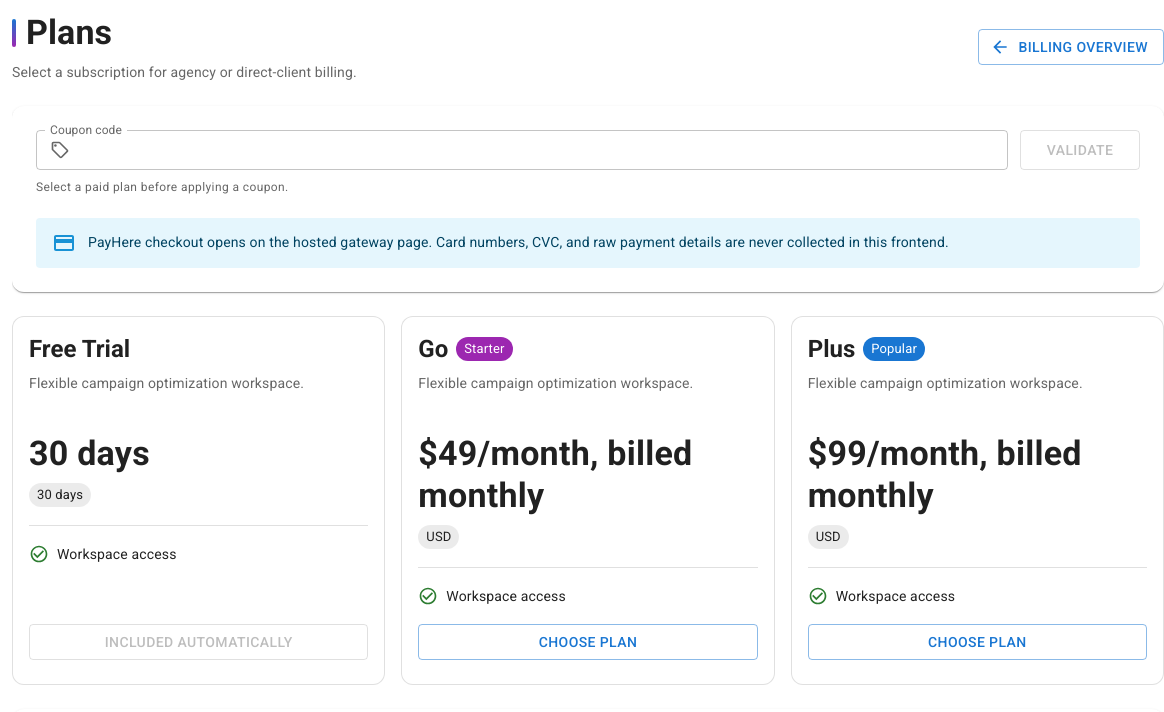
Test: PlanSelectionPage › displays the backend detail when coupon validation fails
Click the 1st button "Choose Plan": x=588, y=642 [418,624,758,660]
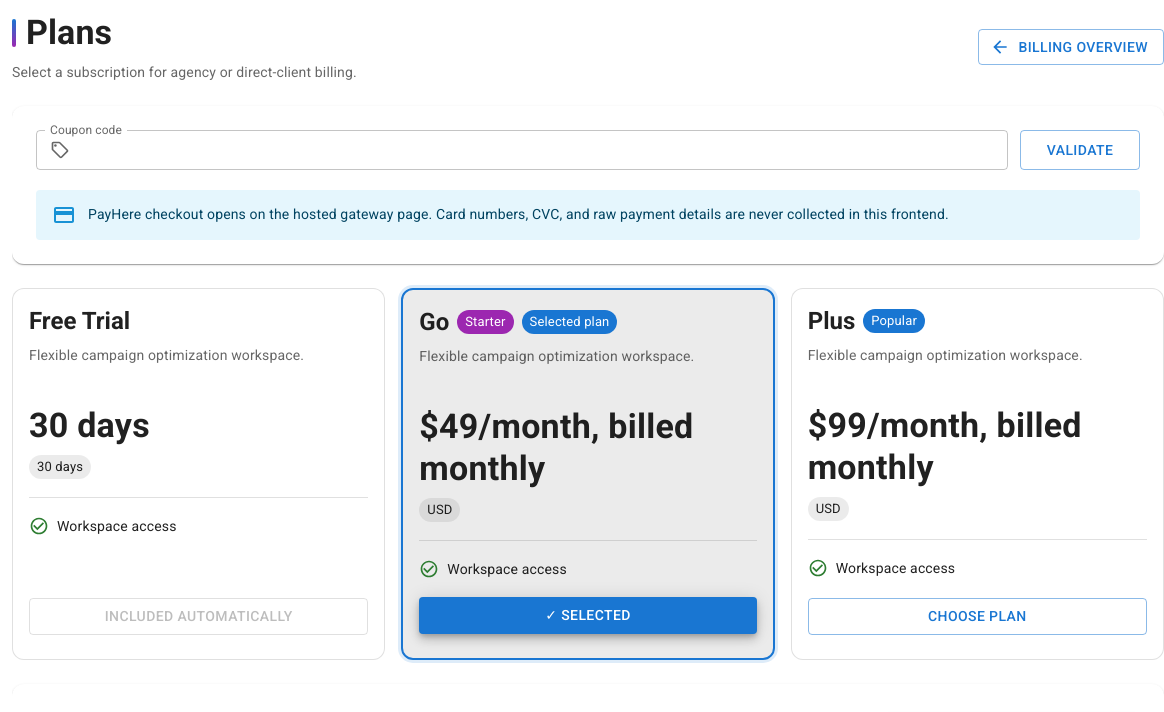
In the field labelled "Coupon code": x=543, y=150 [78,130,1008,170], type "OLDGO"
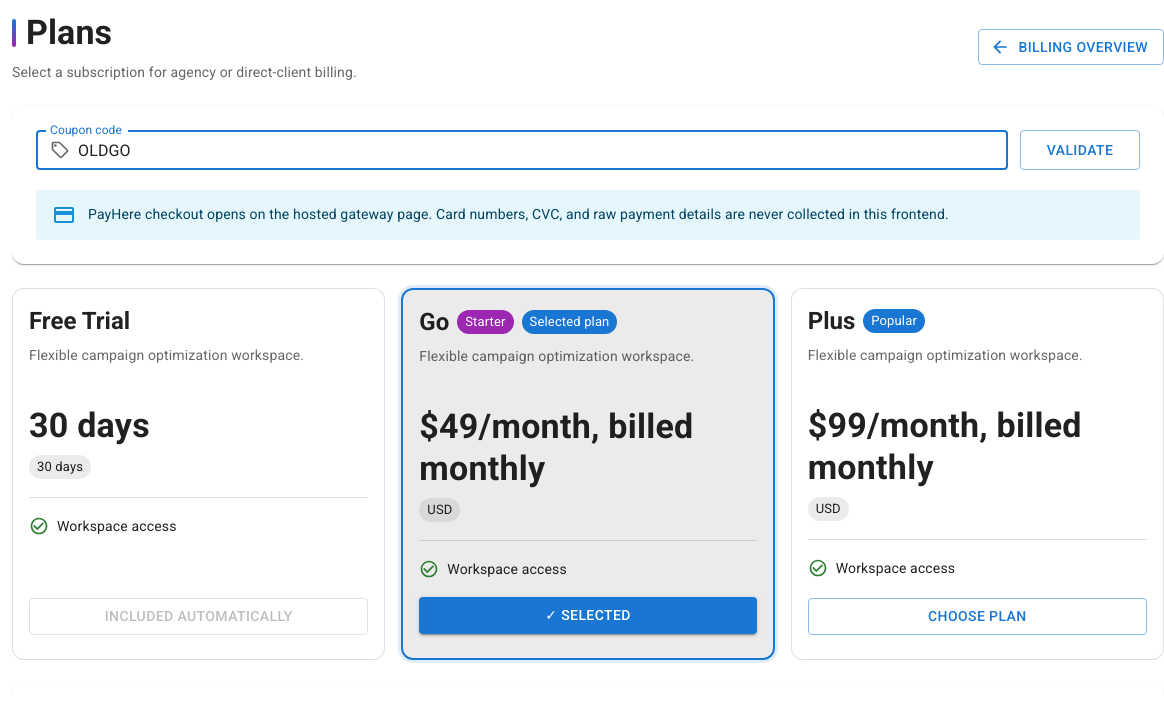
Click the button "Validate": x=1080, y=150 [1020,130,1140,170]
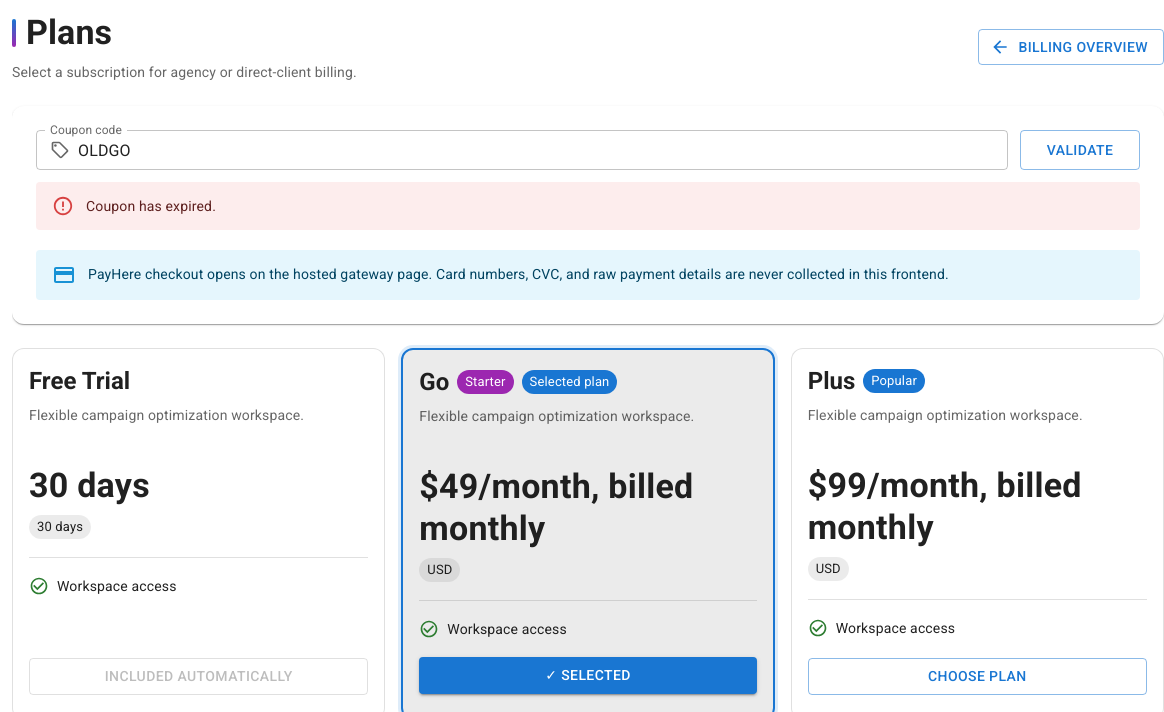
Result: the text "Coupon has expired." is shown at [86,198,216,214]
